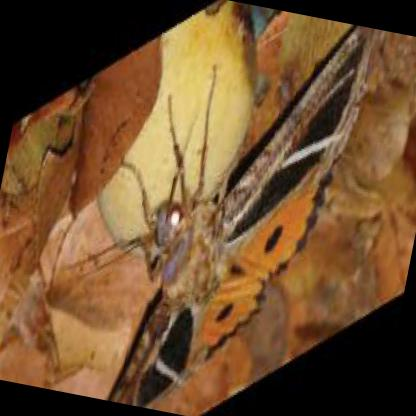fruit sucking moth: (111, 25, 372, 407)
